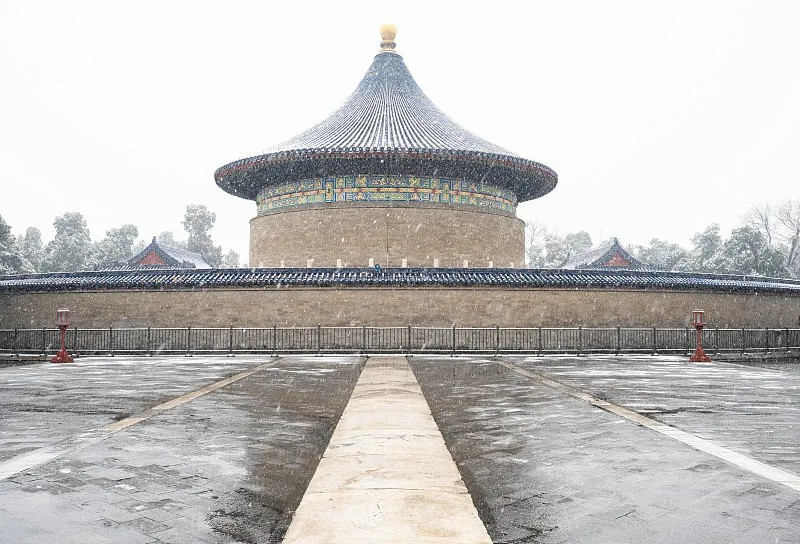Heaven: (213, 24, 558, 268)
